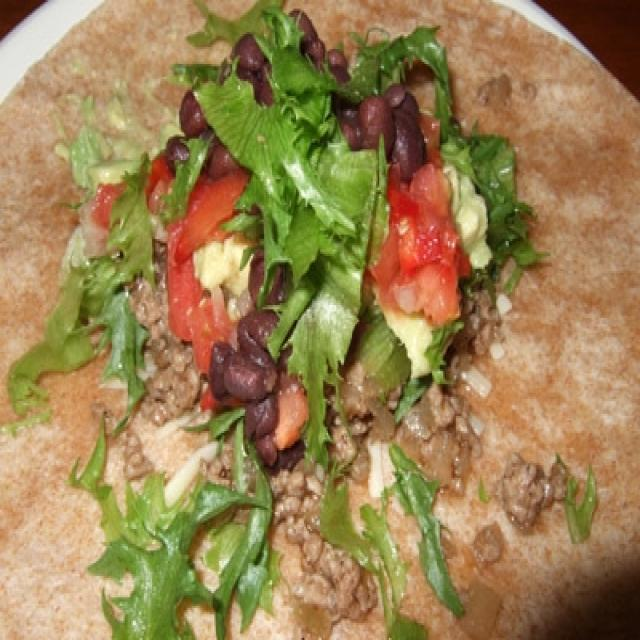面包点心: (13, 6, 616, 634)
